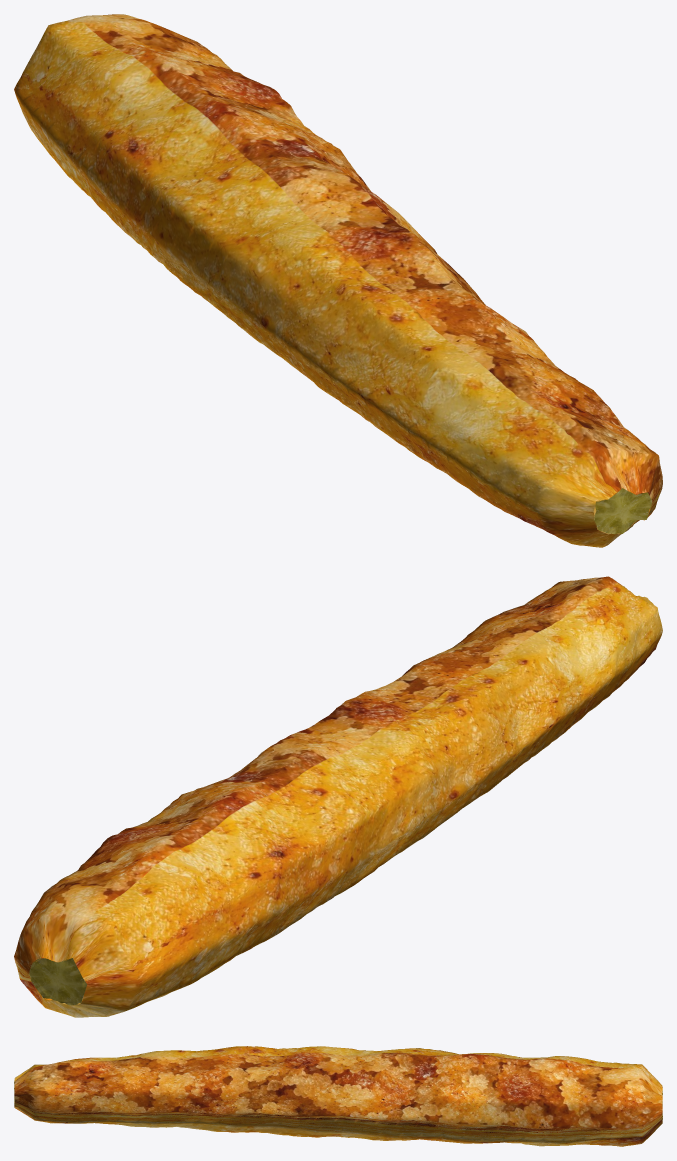
File: sides-pickle-spear-3.glb
3 views of the same model, one above another, from view 1: azimuth 30°, elevation 25°; view 2: azimuth 150°, elevation 25°; view 3: azimuth 270°, elevation 25° (orthographic). The views are drawn at different scales.
Visible parts, largest first — view 1: Breaded fried pickle spear; view 2: Breaded fried pickle spear; view 3: Breaded fried pickle spear.
Boxes of the visible parts, box(x1,y1,x2,y2) form: Breaded fried pickle spear: box(14, 14, 662, 547); Breaded fried pickle spear: box(14, 576, 662, 1017); Breaded fried pickle spear: box(14, 1046, 662, 1146).
Size of the model in its own units: 0.3605 by 0.2542 by 1.72.
2 materials, 2 textured.
